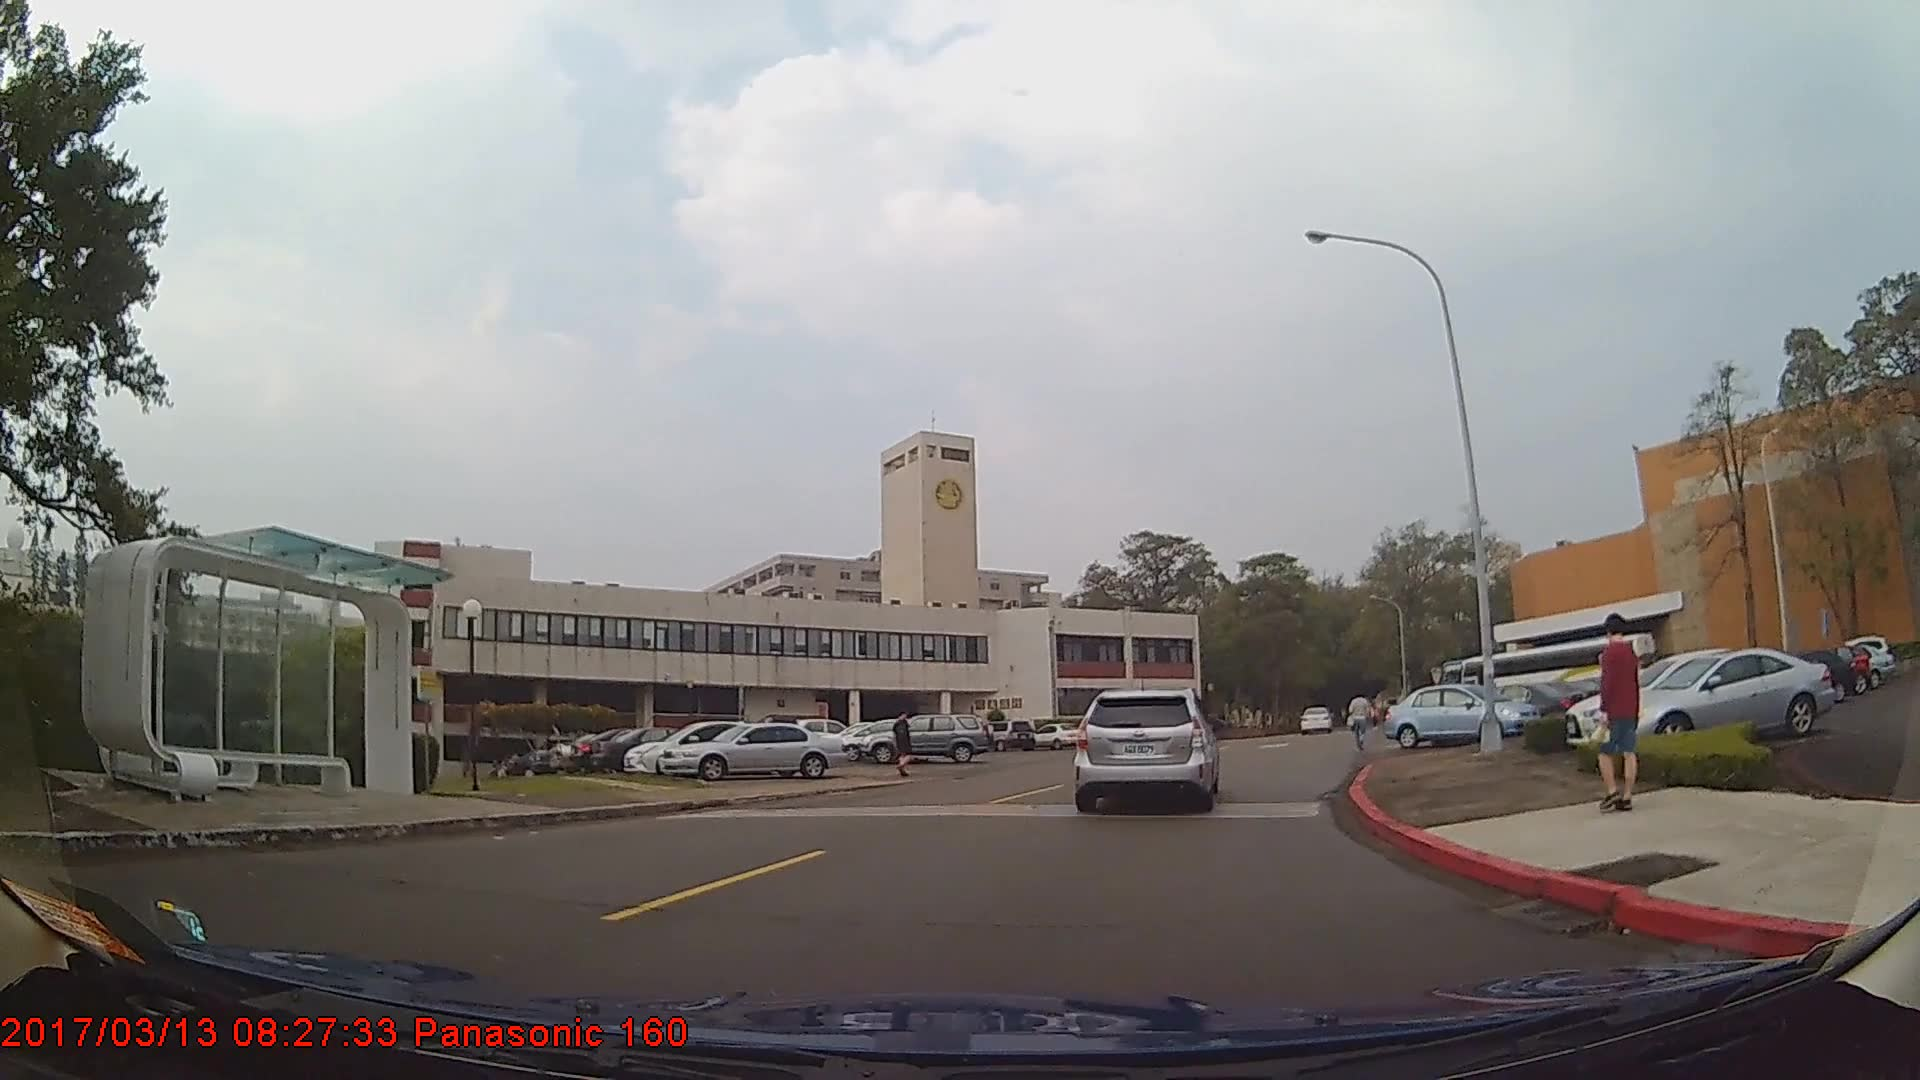pedestrian: (1592, 608, 1650, 816), (892, 707, 920, 778), (1349, 686, 1375, 751)
vehicle: (1604, 648, 1835, 745), (1564, 646, 1795, 744), (1074, 686, 1216, 814), (656, 721, 846, 779), (620, 715, 806, 772), (1380, 680, 1537, 745), (589, 725, 726, 776), (861, 712, 989, 762), (972, 717, 1037, 752), (1299, 699, 1333, 731)
